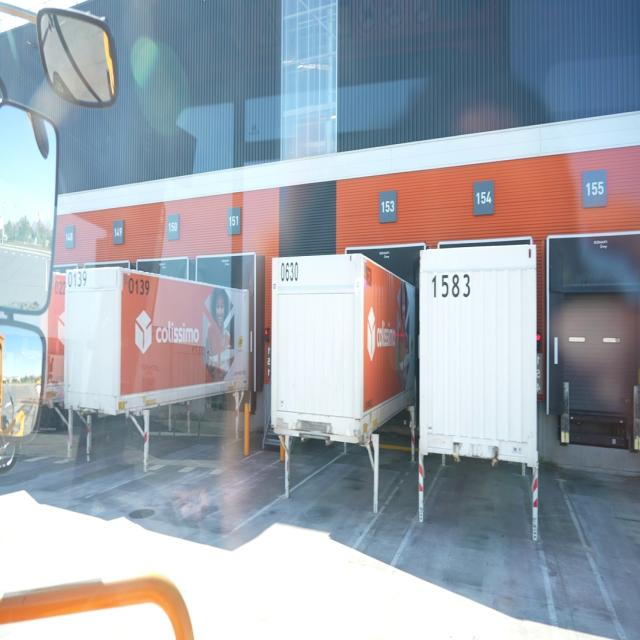Code: (429, 265, 473, 301), (125, 270, 154, 300), (278, 255, 302, 288), (66, 268, 93, 292)
